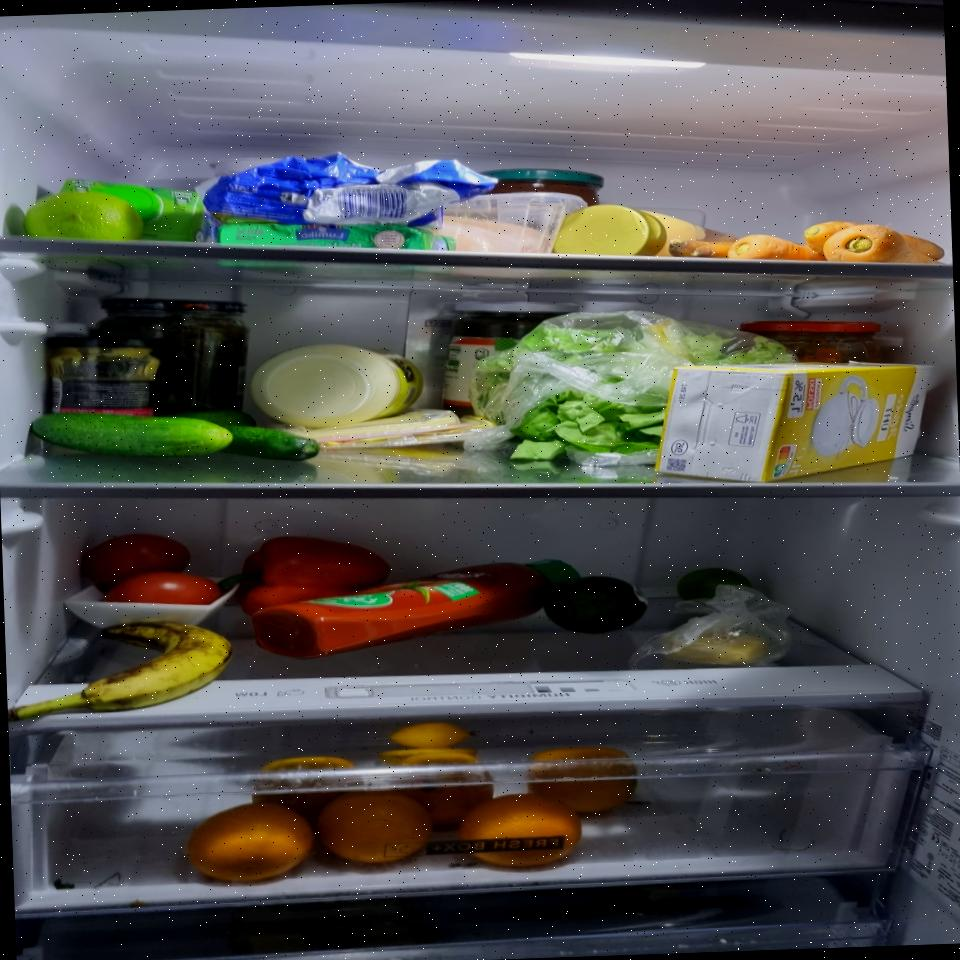Aguacate: (544, 573, 650, 633)
Carne pollo: (431, 190, 588, 258)
Leche: (649, 357, 940, 487)
Lechuga/Endivia: (468, 316, 796, 464)
Mantequilla: (194, 146, 498, 238), (215, 216, 457, 270)
Pepino: (31, 404, 318, 470)
Plátano: (5, 616, 232, 722)
Queso: (294, 406, 496, 454), (664, 632, 770, 666)
Tomate: (78, 530, 192, 588), (100, 570, 218, 609)
Zanahoria: (668, 216, 944, 273)
